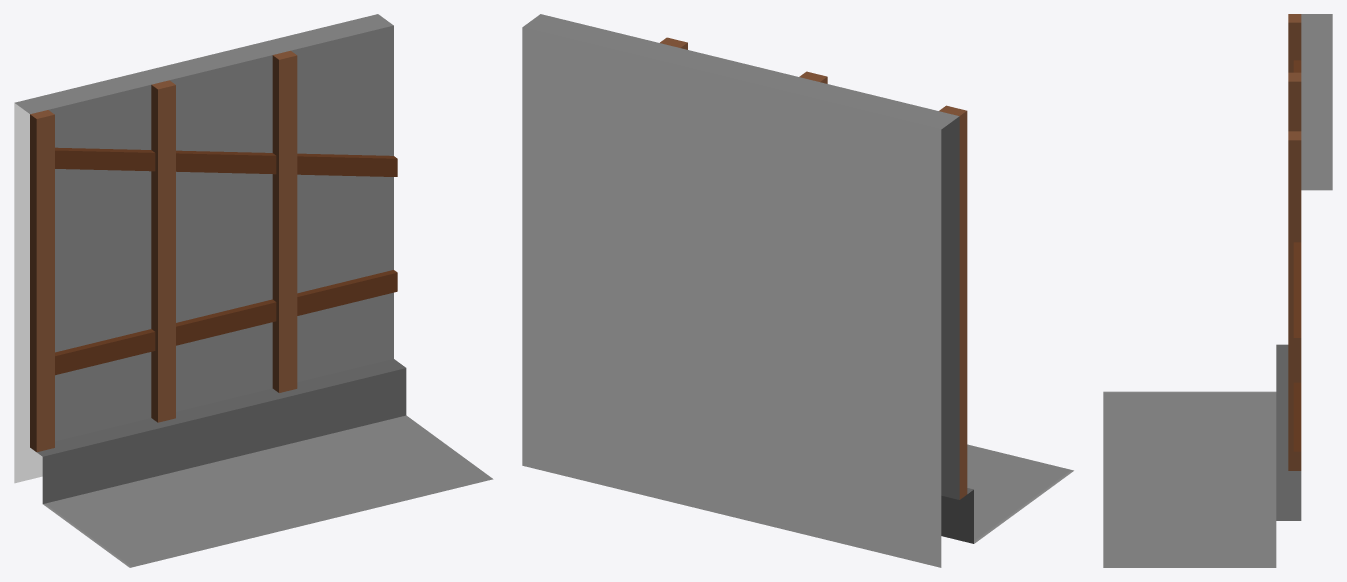
The model's file is E_Wall_Straight_Bare_2.fbx.
The picture shows the model from 3 angles, left to right: view 1: azimuth 30°, elevation 25°; view 2: azimuth 150°, elevation 25°; view 3: azimuth 270°, elevation 25°; orthographic projection. The views are drawn at different scales.
Visible parts, largest first — view 1: E_Wall_Straight_Bare_2; view 2: E_Wall_Straight_Bare_2; view 3: E_Wall_Straight_Bare_2.
Boxes of the visible parts, x1,y1,x2,y2 form: E_Wall_Straight_Bare_2: (14, 14, 493, 567); E_Wall_Straight_Bare_2: (522, 14, 1073, 567); E_Wall_Straight_Bare_2: (1103, 14, 1332, 567).
Size of the model in its own units: 200 by 200 by 110.
